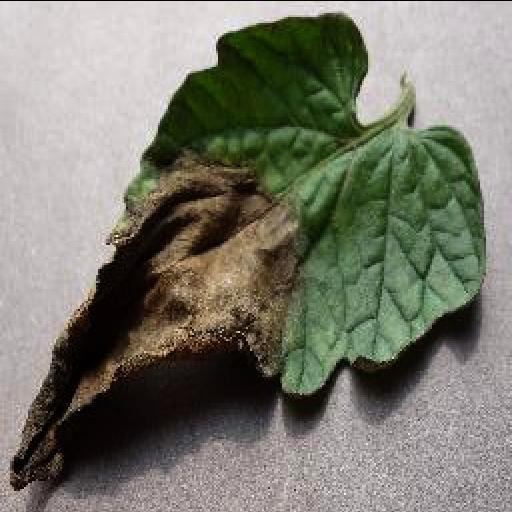disease_tomato: (2, 10, 486, 494)
